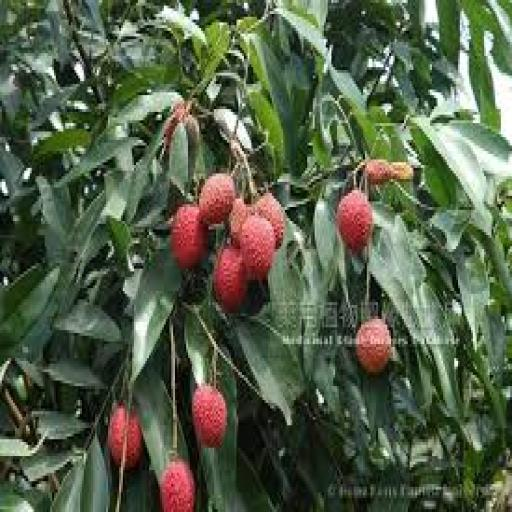lychee: (172, 205, 208, 268), (213, 247, 247, 313), (108, 406, 143, 470), (192, 384, 227, 447), (241, 216, 275, 279), (337, 191, 372, 251), (200, 174, 236, 226), (356, 319, 390, 374), (161, 459, 195, 511), (254, 194, 284, 249), (164, 101, 189, 151), (230, 199, 251, 246), (364, 160, 392, 184), (391, 163, 413, 181)
